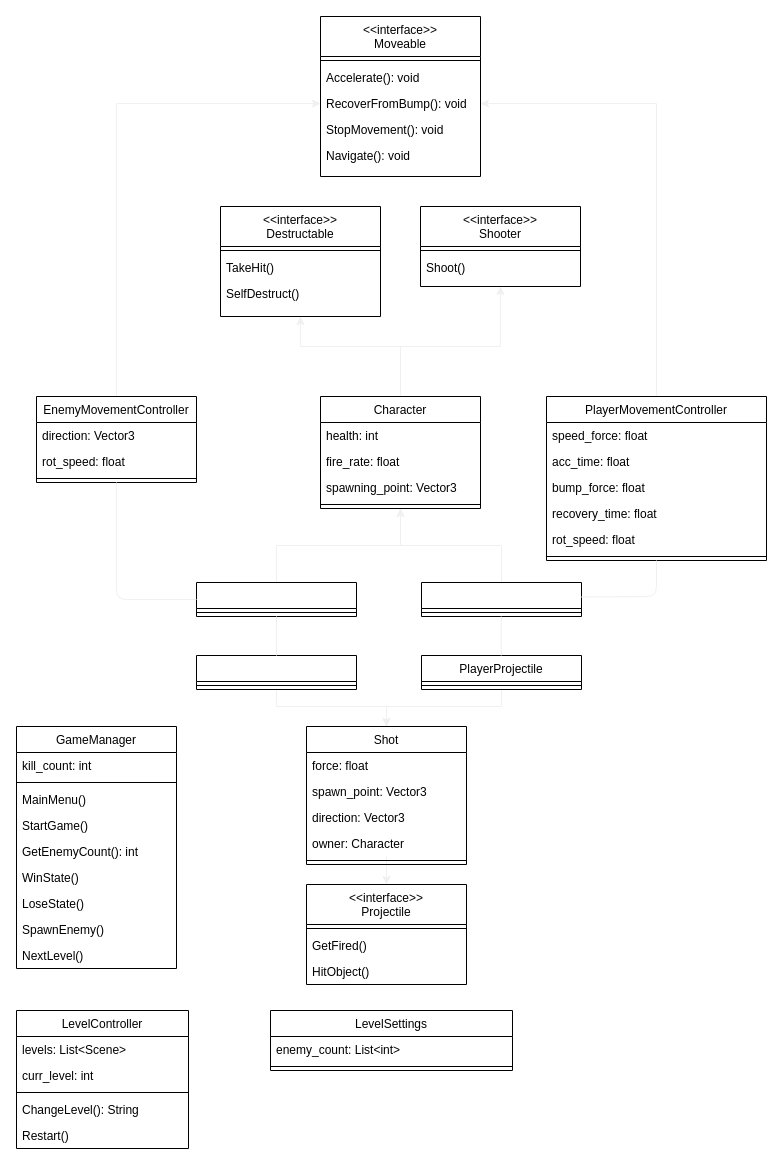
Some shapes in this 783 by 1165 pixel diagram are drawn without their labels. The shapes that lost their labels are listed below. From the top down, each one's centre as x and y in pixels, then its label:
[276,599]: Enemy
[501,599]: Player
[276,672]: EnemyProjectile
